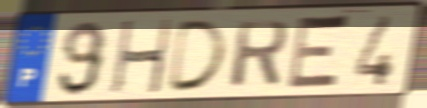4: (351, 13, 395, 89)
9: (56, 19, 107, 98)
D: (164, 17, 230, 94)
E: (283, 12, 353, 93)
H: (109, 17, 175, 97)
R: (227, 18, 291, 90)
